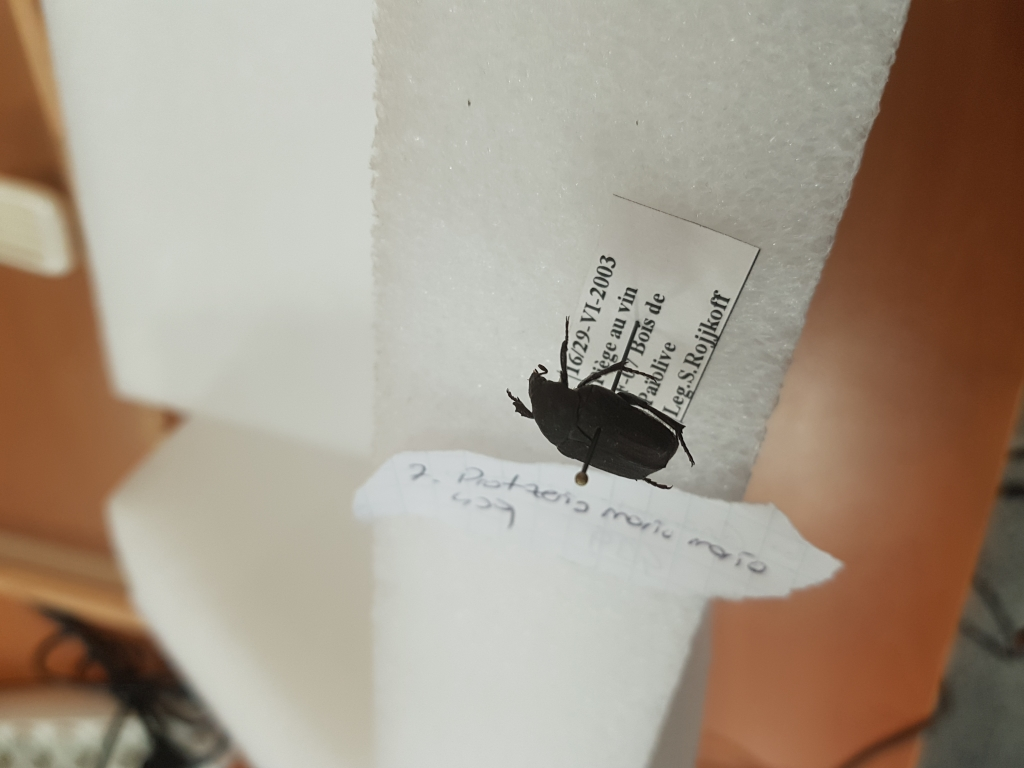Protaetia_morio_morio: (502, 314, 704, 502)
